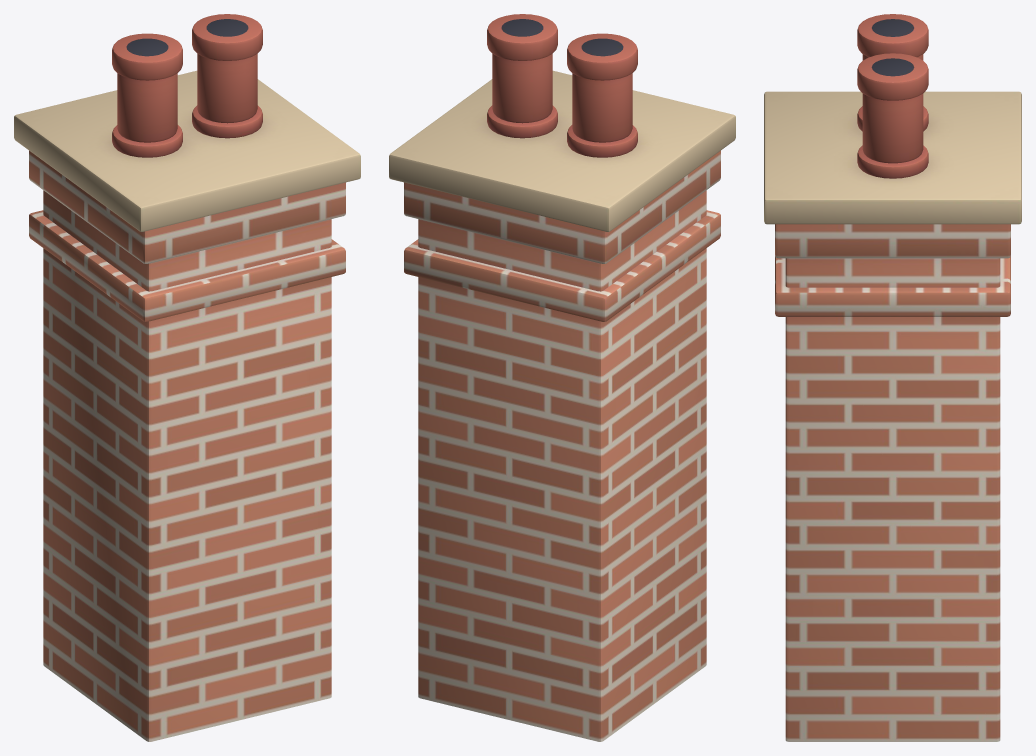
Rendered from chimney.glb.
The picture shows the model from 3 angles, left to right: view 1: azimuth 30°, elevation 25°; view 2: azimuth 150°, elevation 25°; view 3: azimuth 270°, elevation 25°; orthographic projection.
Visible parts, largest first — view 1: chimney_body; view 2: chimney_body; view 3: chimney_body.
Boxes of the visible parts, <box> form: chimney_body: <box>14,14,360,741</box>; chimney_body: <box>389,14,735,741</box>; chimney_body: <box>764,14,1021,741</box>.
Bounding box in the file's own units: 0.72 × 2 × 0.72.
1 material, 1 textured.
